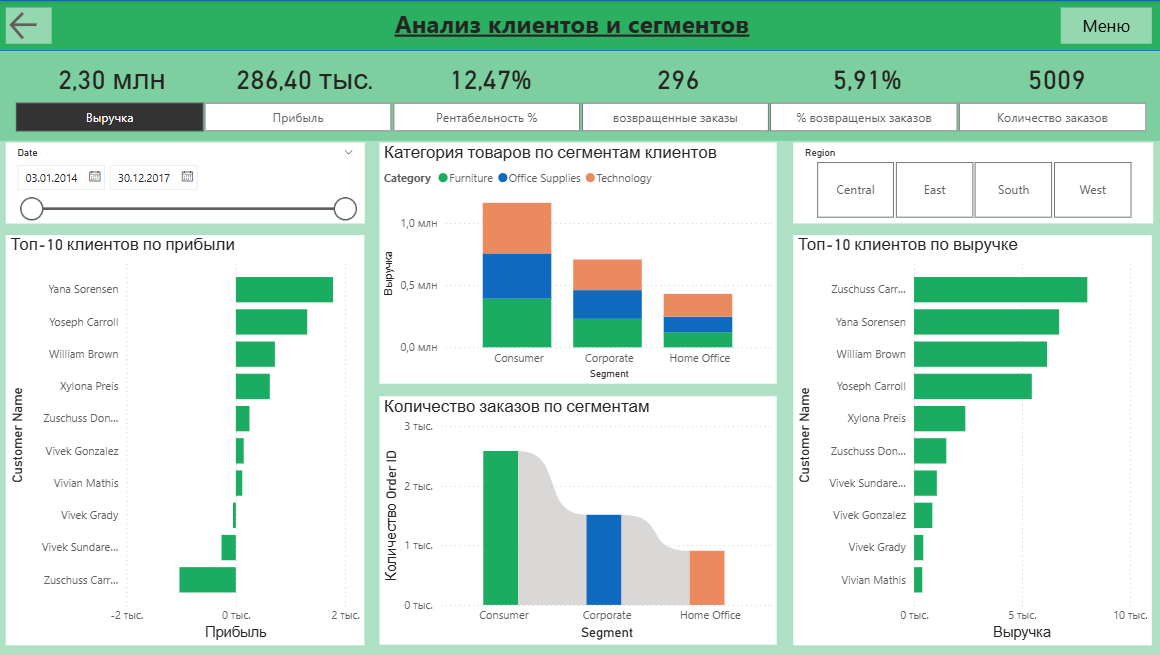

What the dashboard file says about the page in this screenshot:
{"tool":"powerbi","page":{"name":"Анализ клиентов и сегментов","canvas":[1280,720],"ordinal":4},"visuals":[{"type":"shape","box":[0,0,1280.3,56.3],"z":0},{"type":"shape","box":[0,56.3,1280.3,98.8],"z":1000},{"type":"slicer","fields":{"Values":["Параметр 2.Параметр"]},"box":[0,105.7,1280.3,45.3],"z":2000},{"type":"card","fields":{"Values":["меры.Выручка"]},"box":[50.8,67.2,150.9,38.4],"z":3000},{"type":"card","fields":{"Values":["меры.Рентабельность продаж %"]},"box":[461.1,67.2,161.9,38.4],"z":4000},{"type":"card","fields":{"Values":["меры.возвращенные заказы"]},"box":[666.9,67.2,161.9,38.4],"z":5000},{"type":"card","fields":{"Values":["меры.% возвращеных заказов"]},"box":[874.1,67.2,161.9,38.4],"z":6000},{"type":"card","fields":{"Values":["меры.Количество заказов"]},"box":[1077.2,67.2,171.5,38.4],"z":7000},{"type":"card","fields":{"Values":["меры.Прибыль"]},"box":[255.2,67.2,164.7,38.4],"z":8000},{"type":"slicer","fields":{"Values":["Calendar.Date"]},"box":[9.6,156.4,393.8,89.2],"z":9000},{"type":"slicer","fields":{"Values":["Orders.Region"]},"box":[874.1,156.4,395.2,89.2],"z":10000},{"type":"barChart","title":"Топ-10 клиентов по прибыли","fields":{"Category":["Orders.Customer Name"],"Y":["меры.Прибыль"]},"box":[9.6,258,393.8,450.1],"z":12000},{"type":"barChart","title":"Топ-10 клиентов по выручке","fields":{"Category":["Orders.Customer Name"],"Y":["меры.Выручка"]},"box":[874.1,258,393.8,450.1],"z":13000},{"type":"columnChart","title":"Категория товаров по сегментам клиентов","fields":{"Category":["Orders.Segment"],"Y":["меры.Выручка"],"Series":["Orders.Category"]},"box":[419.9,156.4,436.4,264.8],"z":14000},{"type":"ribbonChart","title":"Количество заказов по сегментам","fields":{"Category":["Orders.Segment"],"Y":["Count(Orders.Order ID)"]},"box":[419.9,435,436.4,273.1],"z":15000},{"type":"actionButton","box":[9.6,8.2,50.8,39.8],"z":16000},{"type":"textbox","box":[307.4,2.7,647.7,50.8],"z":17000},{"type":"actionButton","box":[1167.8,8.2,100.2,39.8],"z":17001}]}

Visuals, with their boxes in screenshot pixels (x1, y1, x2, y2), scaled from the page's 1280x720 canvas onto the 1160x655 screenshot:
shape: <bbox>0, 0, 1159, 51</bbox>
shape: <bbox>0, 51, 1159, 141</bbox>
slicer - Параметр 2.Параметр: <bbox>0, 96, 1159, 137</bbox>
card - меры.Выручка: <bbox>46, 61, 183, 96</bbox>
card - меры.Рентабельность продаж %: <bbox>418, 61, 565, 96</bbox>
card - меры.возвращенные заказы: <bbox>604, 61, 751, 96</bbox>
card - меры.% возвращеных заказов: <bbox>792, 61, 939, 96</bbox>
card - меры.Количество заказов: <bbox>976, 61, 1132, 96</bbox>
card - меры.Прибыль: <bbox>231, 61, 381, 96</bbox>
slicer - Calendar.Date: <bbox>9, 142, 366, 223</bbox>
slicer - Orders.Region: <bbox>792, 142, 1150, 223</bbox>
"Топ-10 клиентов по прибыли" barChart: <bbox>9, 235, 366, 644</bbox>
"Топ-10 клиентов по выручке" barChart: <bbox>792, 235, 1149, 644</bbox>
"Категория товаров по сегментам клиентов" columnChart: <bbox>381, 142, 776, 383</bbox>
"Количество заказов по сегментам" ribbonChart: <bbox>381, 396, 776, 644</bbox>
actionButton: <bbox>9, 7, 55, 44</bbox>
textbox: <bbox>279, 2, 866, 49</bbox>
actionButton: <bbox>1058, 7, 1149, 44</bbox>
